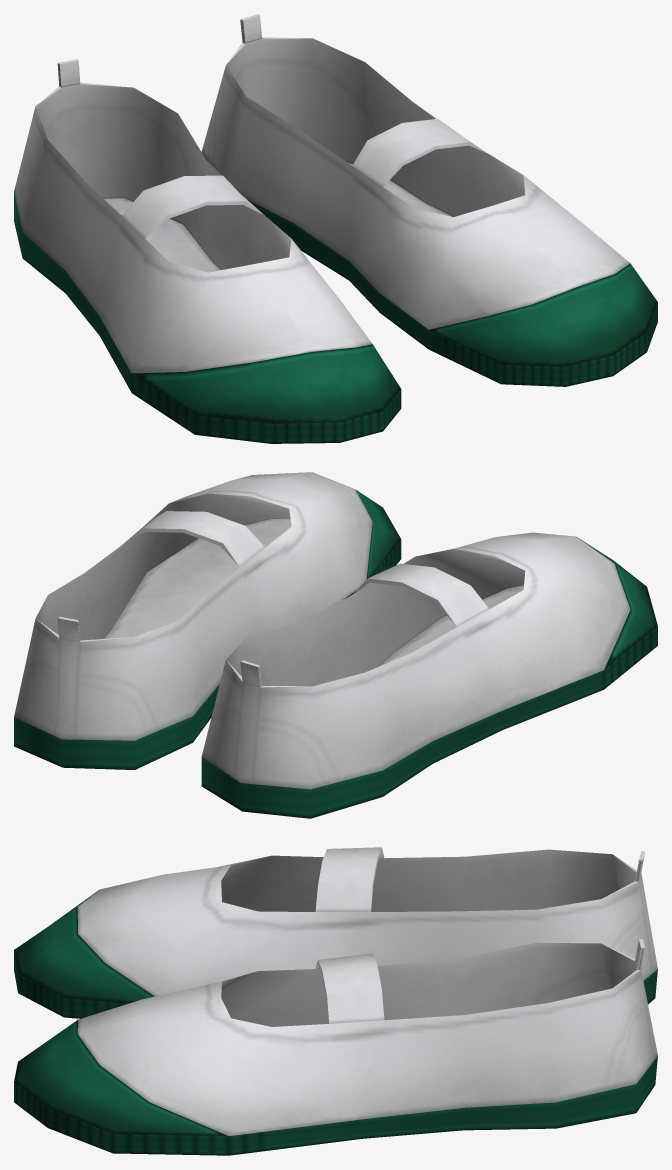
The model's file is set_indoorshoes_02_a.fbx.
The picture shows the model from 3 angles, top to bottom: view 1: azimuth 30°, elevation 25°; view 2: azimuth 150°, elevation 25°; view 3: azimuth 270°, elevation 25°; orthographic projection.
Parts seen in each view (by area): view 1: indoorshoes_02_b_R, indoorshoes_02_b_L; view 2: indoorshoes_02_b_L, indoorshoes_02_b_R; view 3: indoorshoes_02_b_R, indoorshoes_02_b_L.
Boxes of the visible parts, left/top/right/bottom form: indoorshoes_02_b_R: left=201, top=14, right=657, bottom=386; indoorshoes_02_b_L: left=14, top=59, right=401, bottom=443; indoorshoes_02_b_L: left=201, top=532, right=657, bottom=818; indoorshoes_02_b_R: left=14, top=472, right=401, bottom=769; indoorshoes_02_b_R: left=14, top=939, right=657, bottom=1155; indoorshoes_02_b_L: left=14, top=847, right=657, bottom=1018.
Size of the model in its own units: 21.31 by 6.18 by 25.41.
